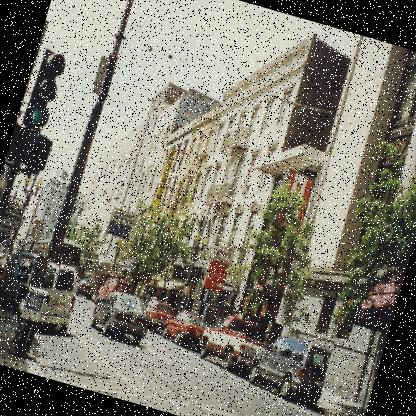Car: (0, 243, 336, 407)
